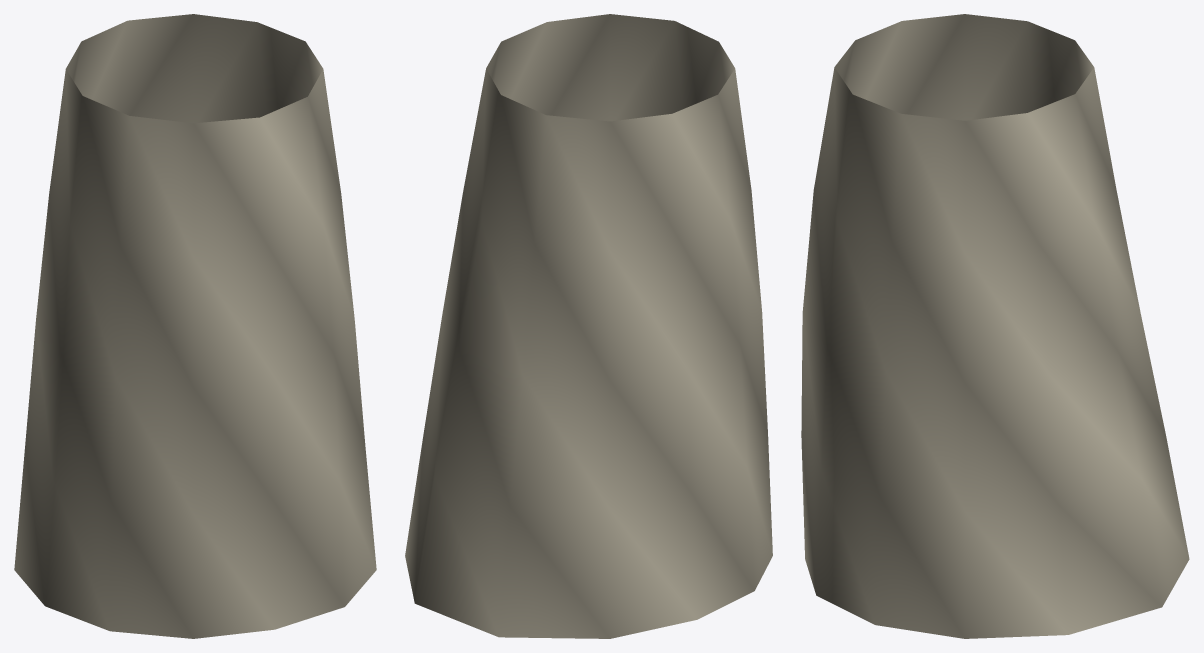
File: necro_armor_cuisse.L.glb
3 views of the same model, side by side, from view 1: azimuth 30°, elevation 25°; view 2: azimuth 150°, elevation 25°; view 3: azimuth 270°, elevation 25° (orthographic). The views are drawn at different scales.
Visible parts, largest first — view 1: necro_armor_cuisse.L; view 2: necro_armor_cuisse.L; view 3: necro_armor_cuisse.L.
Boxes of the visible parts, x1,y1,x2,y2 form: necro_armor_cuisse.L: (14, 14, 376, 638); necro_armor_cuisse.L: (405, 14, 772, 638); necro_armor_cuisse.L: (801, 14, 1189, 638).
Bounding box in the file's own units: 0.2432 × 0.37 × 0.2644.
